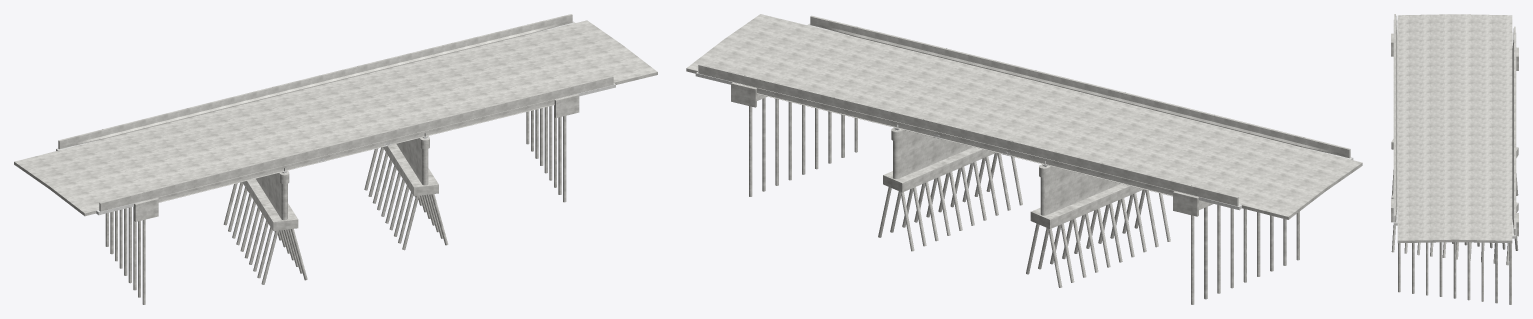
The model's file is model_render.glb.
3 views of the same model, side by side, from view 1: azimuth 30°, elevation 25°; view 2: azimuth 150°, elevation 25°; view 3: azimuth 270°, elevation 25° (orthographic). The views are drawn at different scales.
Parts seen in each view (by area): view 1: deck, approach_west, approach_east, rail_1, rail_-1, footing_3, footing_2, pier_3_wall, pier_2_wall, beam_7_segment_3, beam_7_segment_1, wing_4_-1 (+5 smaller); view 2: deck, approach_west, approach_east, rail_-1, rail_1, pier_2_wall, pier_3_wall, footing_2, footing_3, beam_1_segment_3, beam_1_segment_1, wing_1_1 (+5 smaller); view 3: deck, approach_east, approach_west, rail_1, rail_-1, endpile_4_6, endpile_4_5, endpile_4_4, endpile_4_9, endpile_4_8, endpile_4_7, endpile_4_3 (+2 smaller).
Boxes of the visible parts, bbox=[...] form: deck: bbox=[105, 34, 569, 200]; approach_west: bbox=[14, 139, 138, 216]; approach_east: bbox=[530, 20, 657, 87]; rail_1: bbox=[103, 25, 529, 138]; rail_-1: bbox=[144, 86, 569, 200]; footing_3: bbox=[383, 144, 438, 196]; footing_2: bbox=[242, 178, 298, 230]; pier_3_wall: bbox=[396, 139, 428, 185]; pier_2_wall: bbox=[256, 174, 287, 220]; beam_7_segment_3: bbox=[388, 101, 554, 145]; beam_7_segment_1: bbox=[158, 160, 321, 202]; wing_4_-1: bbox=[554, 94, 579, 117]; deck: bbox=[744, 37, 1301, 194]; approach_west: bbox=[1204, 147, 1362, 219]; approach_east: bbox=[686, 14, 854, 77]; rail_-1: bbox=[855, 27, 1303, 147]; rail_1: bbox=[744, 75, 1191, 194]; pier_2_wall: bbox=[1040, 170, 1120, 215]; pier_3_wall: bbox=[893, 133, 972, 178]; footing_2: bbox=[1030, 183, 1143, 228]; footing_3: bbox=[883, 147, 995, 192]; beam_1_segment_3: bbox=[757, 90, 936, 137]; beam_1_segment_1: bbox=[1006, 152, 1172, 196]; wing_1_1: bbox=[1173, 191, 1198, 216]; deck: bbox=[1393, 37, 1516, 217]; approach_east: bbox=[1397, 205, 1512, 243]; approach_west: bbox=[1397, 14, 1512, 50]; rail_1: bbox=[1512, 44, 1515, 216]; rail_-1: bbox=[1394, 31, 1397, 203]; endpile_4_6: bbox=[1467, 242, 1470, 300]; endpile_4_5: bbox=[1453, 242, 1456, 298]; endpile_4_4: bbox=[1439, 242, 1442, 296]; endpile_4_9: bbox=[1509, 243, 1511, 304]; endpile_4_8: bbox=[1495, 243, 1497, 303]; endpile_4_7: bbox=[1481, 242, 1483, 301]; endpile_4_3: bbox=[1426, 242, 1428, 295].
Bounding box in the file's own units: 62.1 × 13.24 × 14.78.
4 materials, 3 textured.
